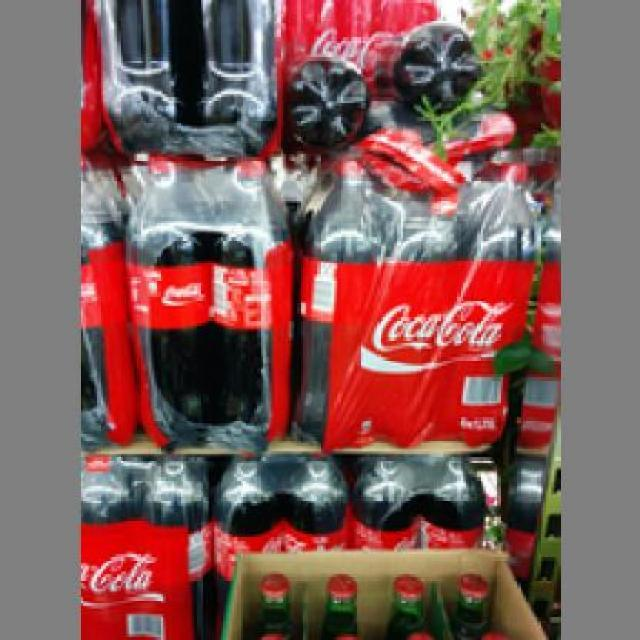Soda: (294, 154, 386, 446), (122, 157, 212, 443), (374, 150, 452, 444), (208, 151, 282, 440), (84, 0, 186, 152), (136, 452, 210, 638), (180, 0, 277, 137), (211, 448, 280, 618), (346, 446, 420, 546), (283, 442, 343, 548)
